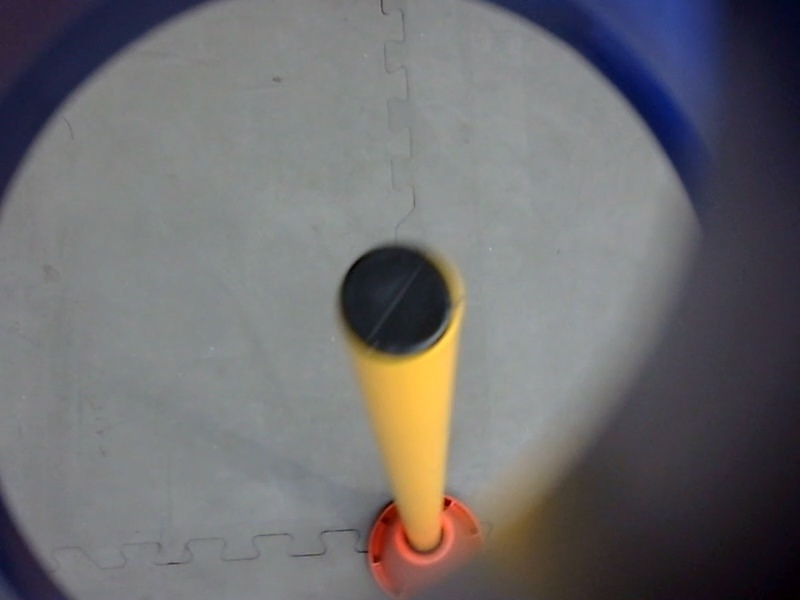tip: (325, 232, 474, 368)
